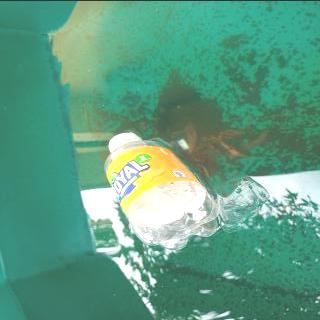bottle: (102, 130, 222, 249)
